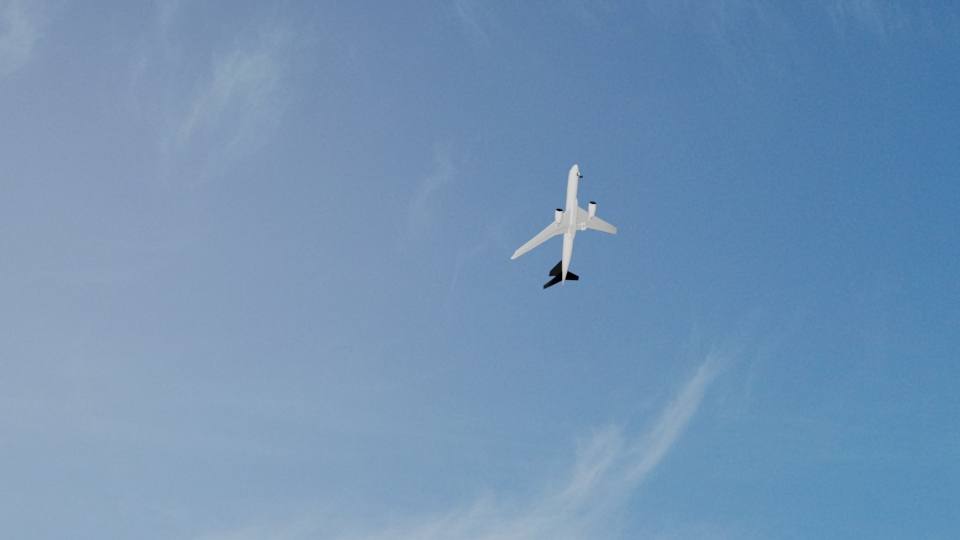plane: (509, 162, 620, 289)
